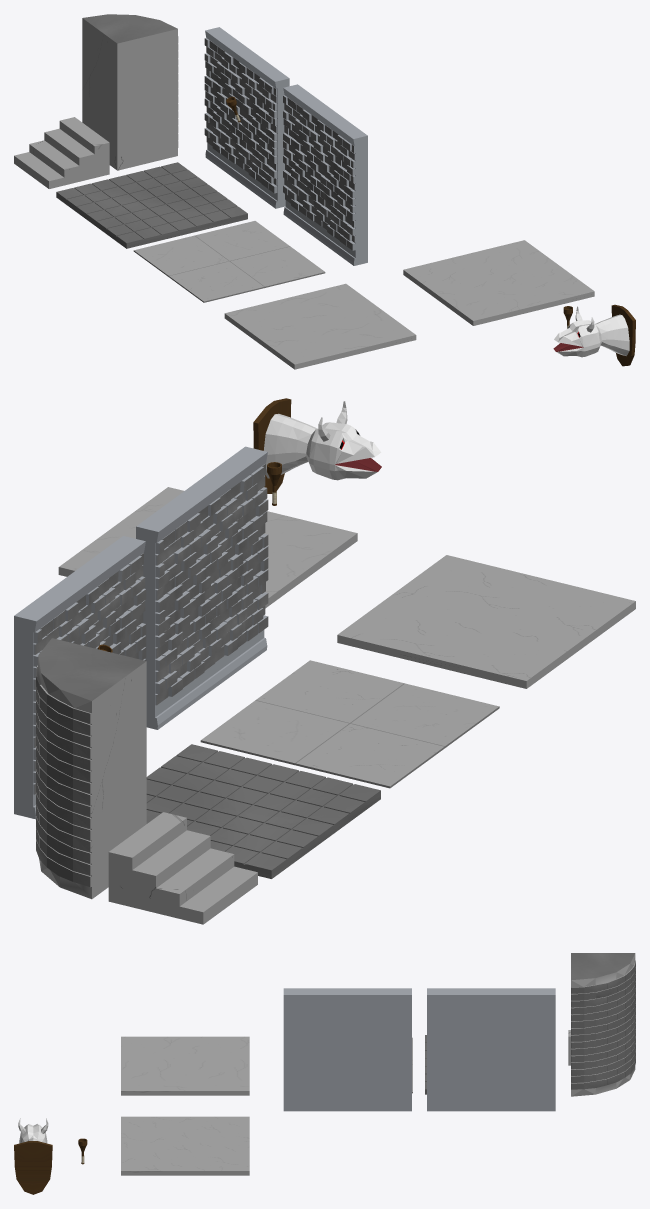
File: Enviroment.fbx
3 views of the same model, one above another, from view 1: azimuth 30°, elevation 25°; view 2: azimuth 150°, elevation 25°; view 3: azimuth 270°, elevation 25° (orthographic). The views are drawn at different scales.
Visible parts, largest first — view 1: Pillar Quarter, Wall 1, WallWithTorch, Floor2, Ceiling2, Ceiling1, Floor1, Stairs, DragonHead; view 2: Wall 1, Pillar Quarter, Ceiling2, Floor1, Floor2, WallWithTorch, Stairs, Ceiling1, DragonHead; view 3: WallWithTorch, Wall 1, Pillar Quarter, Ceiling2, Ceiling1, DragonHead.
Part boxes in pixels (box(x1,y1,x2,y2)): Pillar Quarter: box(82, 14, 178, 170); Wall 1: box(283, 84, 367, 265); WallWithTorch: box(204, 27, 289, 208); Floor2: box(56, 162, 247, 248); Ceiling2: box(224, 283, 416, 369); Ceiling1: box(403, 240, 594, 325); Floor1: box(133, 221, 325, 302); Stairs: box(14, 117, 109, 188); DragonHead: box(553, 304, 635, 366); Wall 1: box(136, 446, 268, 729); Pillar Quarter: box(36, 638, 146, 899); Ceiling2: box(337, 555, 635, 688); Floor1: box(200, 660, 499, 788); Floor2: box(146, 744, 380, 878); WallWithTorch: box(14, 536, 146, 819); Stairs: box(108, 812, 257, 924); Ceiling1: box(58, 487, 357, 608); DragonHead: box(253, 398, 381, 493); WallWithTorch: box(427, 988, 555, 1111); Wall 1: box(283, 988, 411, 1111); Pillar Quarter: box(571, 953, 635, 1096); Ceiling2: box(121, 1036, 249, 1095); Ceiling1: box(121, 1116, 249, 1175); DragonHead: box(14, 1118, 52, 1194).
Bounding box in the file's own units: 2489 × 1253 × 4840.
Materials: 13 (6 with a texture image).
